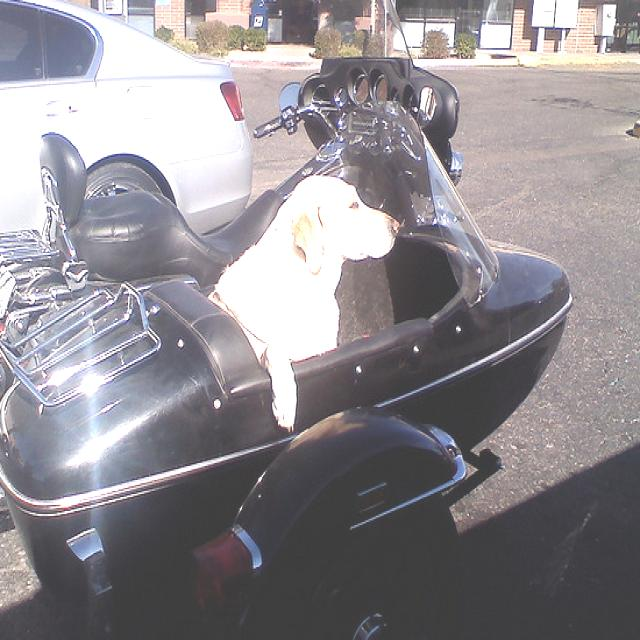Vehicle: (0, 94, 571, 590), (1, 0, 467, 528), (0, 0, 257, 298)
